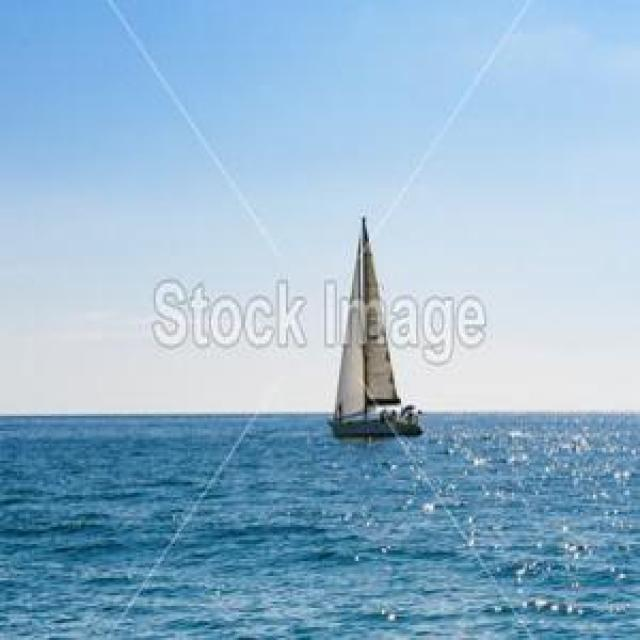sailboat: (322, 208, 429, 440)
